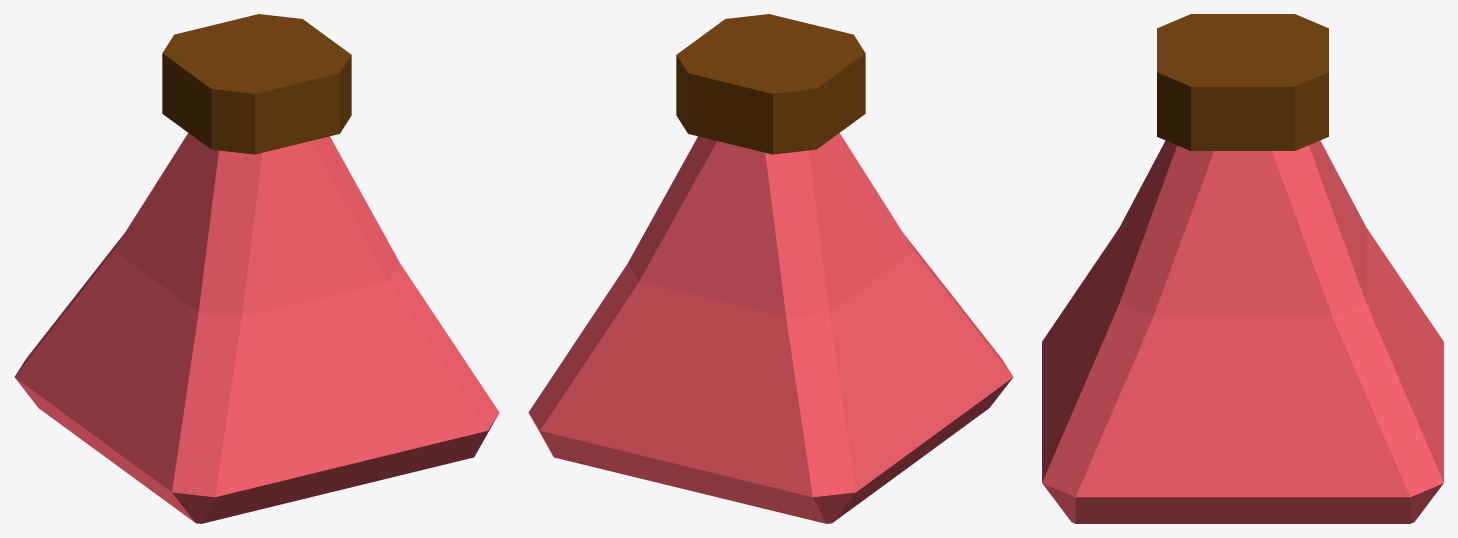
File: low_poly_potion.gltf
3 renders of one model, left to right at view 1: azimuth 30°, elevation 25°; view 2: azimuth 150°, elevation 25°; view 3: azimuth 270°, elevation 25°, orthographic. The views are drawn at different scales.
Parts seen in each view (by area): view 1: Potion; view 2: Potion; view 3: Potion.
Part boxes in pixels (<box>): Potion: <box>14,14,499,523</box>; Potion: <box>528,14,1013,523</box>; Potion: <box>1042,14,1443,523</box>.
Size of the model in its own units: 1.81 by 2 by 1.81.
